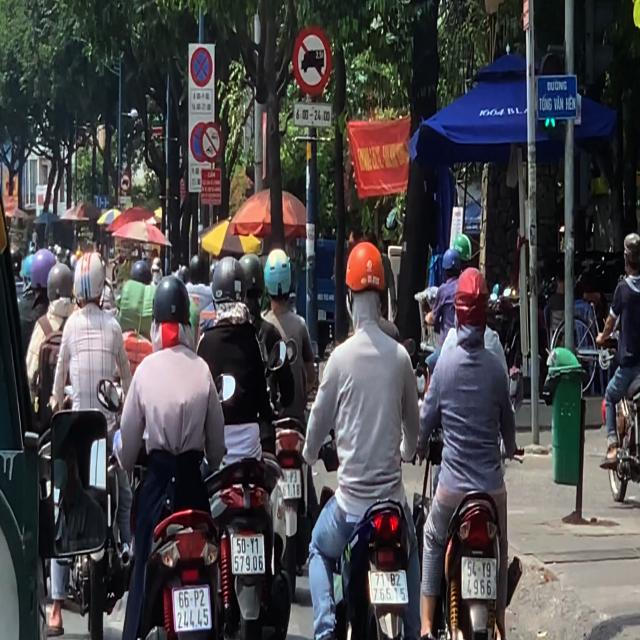Cam con lai: (292, 26, 332, 95), (200, 121, 222, 163)
Cam dung va do: (190, 47, 213, 87), (120, 173, 130, 192)
